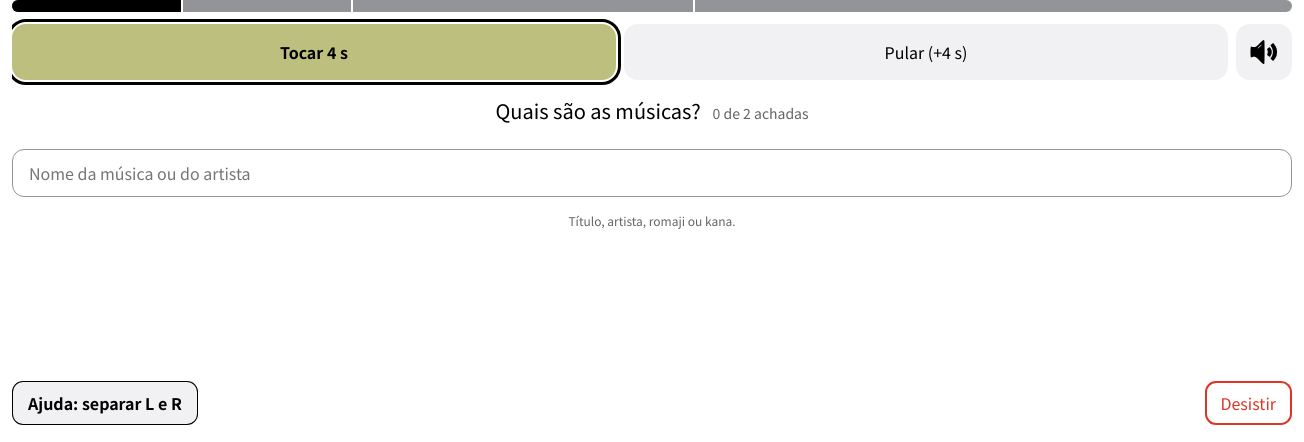
Test case: MixedRoundView (M17) › toca as duas juntas, no centro, com o volume igualado e o limitador
The width and height of the screenshot is (1304, 442).
Click the button "Tocar 4 s": (314, 52) [12,24,616,80]
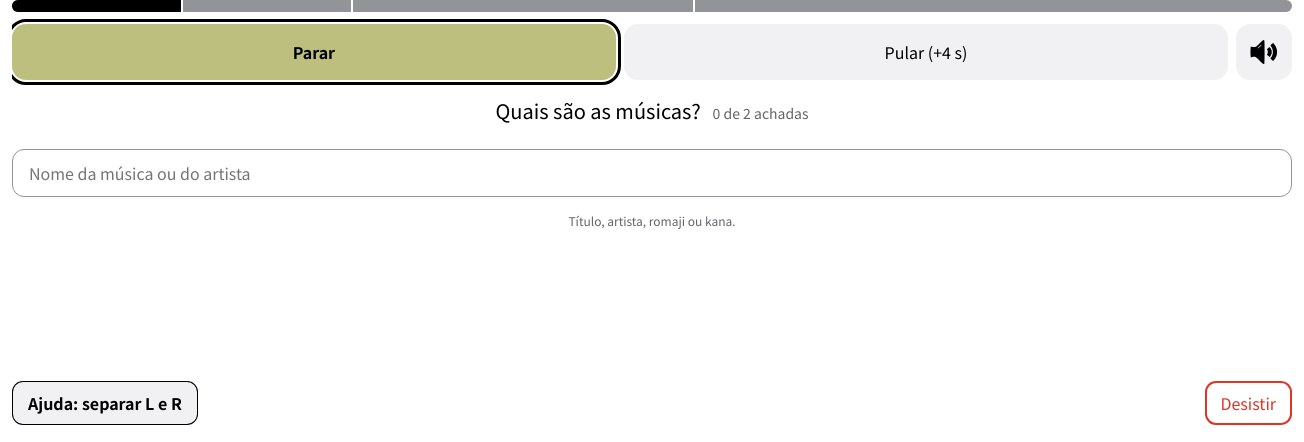
Expected: the button "Parar" is shown, [12,24,616,80]
